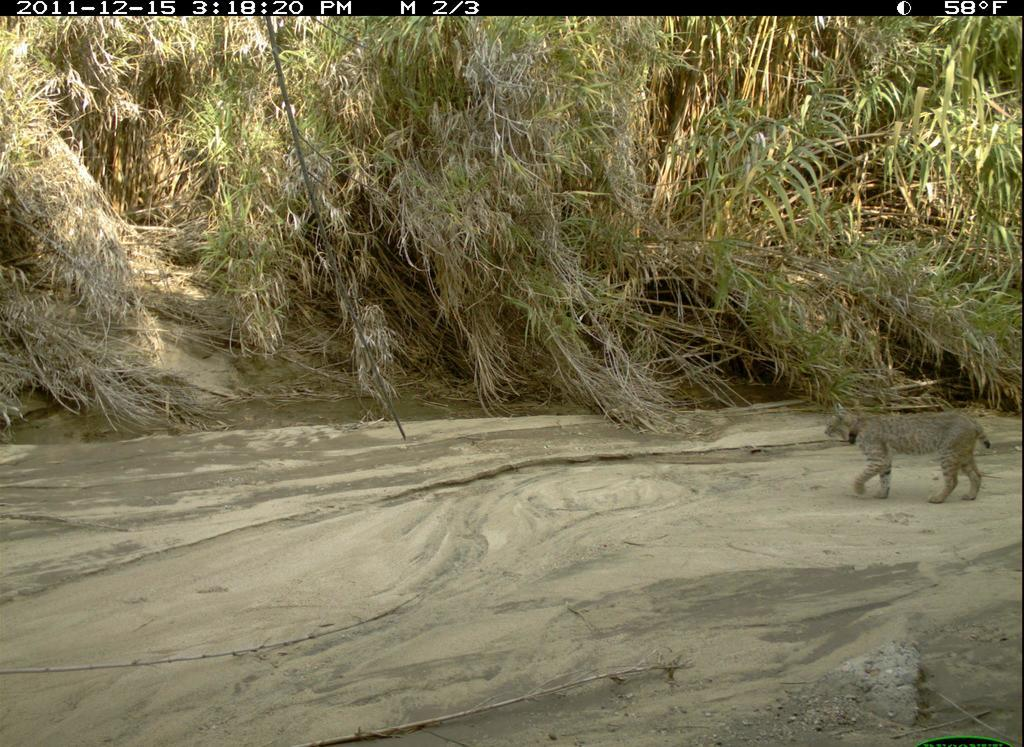bobcat: (820, 401, 998, 510)
